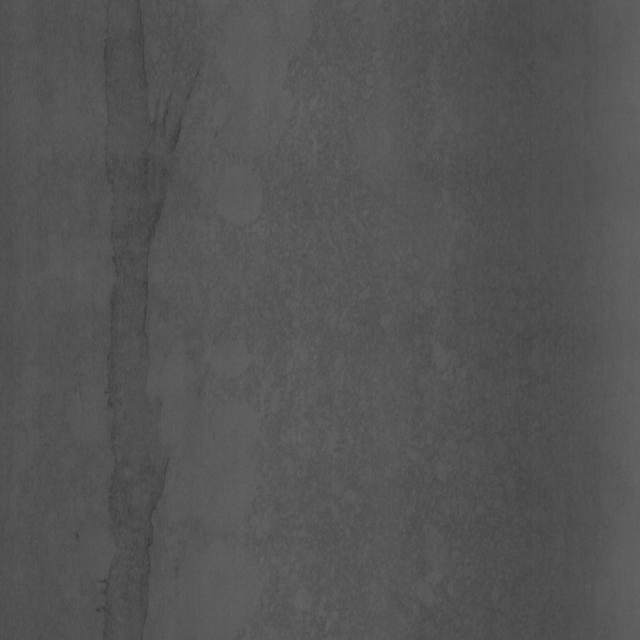water_spot: (94, 15, 190, 609)
